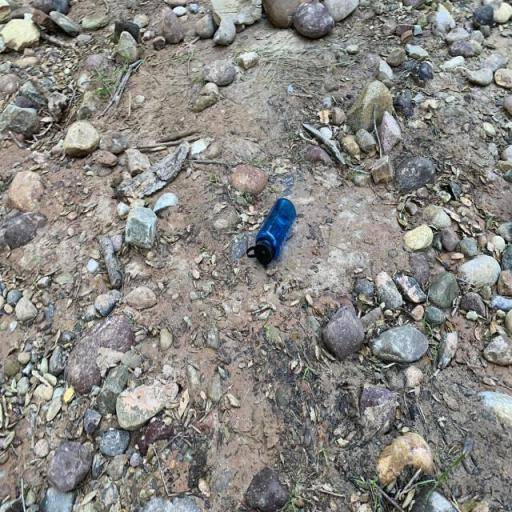bottle: (246, 198, 296, 265)
